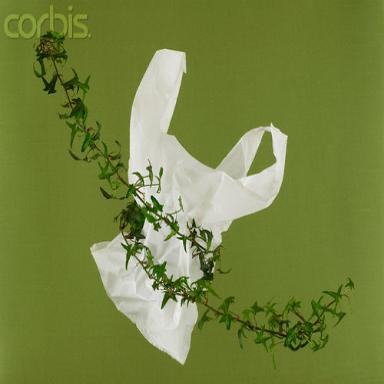clothing: (91, 45, 293, 370)
